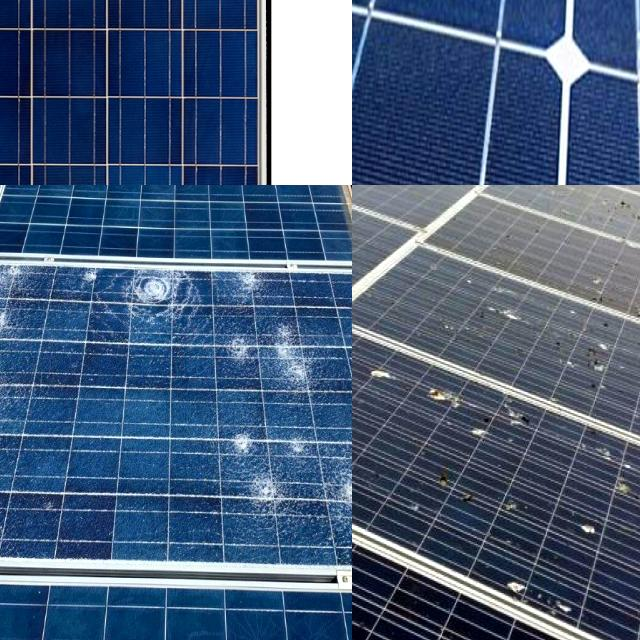bird: (510, 574, 585, 632), (458, 282, 526, 332), (579, 326, 618, 406), (422, 465, 478, 508), (353, 357, 406, 392), (421, 386, 476, 414), (504, 404, 557, 432), (504, 487, 532, 530), (604, 471, 640, 503), (574, 506, 608, 539)
crack: (0, 0, 260, 185), (352, 0, 575, 185), (553, 43, 640, 185)
hotspot: (222, 327, 318, 412), (123, 275, 211, 327), (224, 421, 325, 456), (0, 261, 41, 339), (222, 275, 294, 317), (0, 492, 34, 578), (243, 471, 294, 516), (0, 350, 27, 429), (333, 460, 352, 560), (70, 257, 108, 300), (0, 329, 20, 397)
